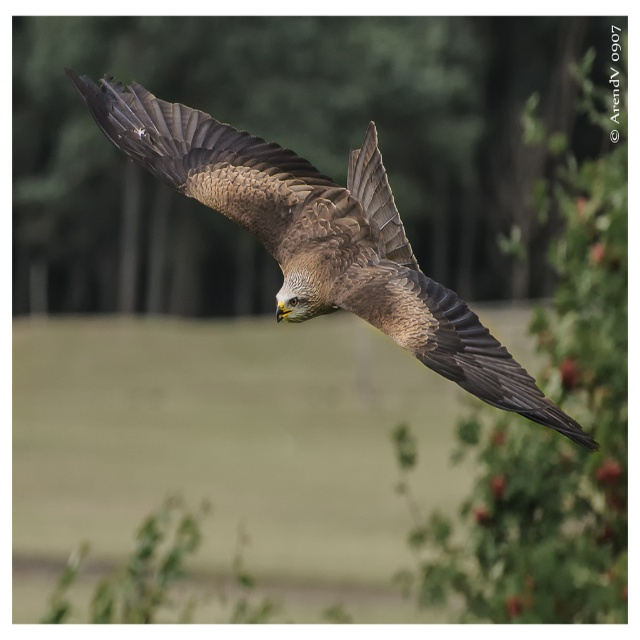Eagle: (66, 67, 605, 453)
